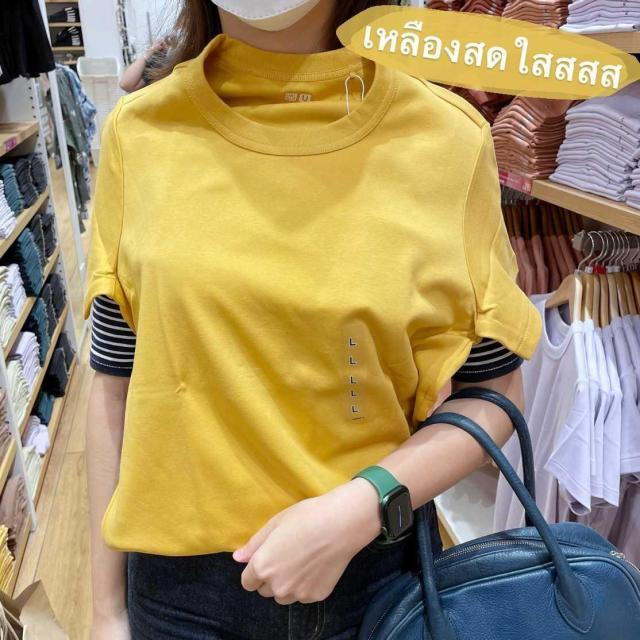Tshirt: (83, 59, 545, 592)
